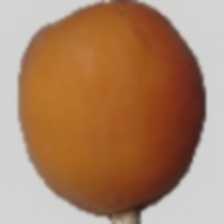apricot: (18, 26, 213, 178)
